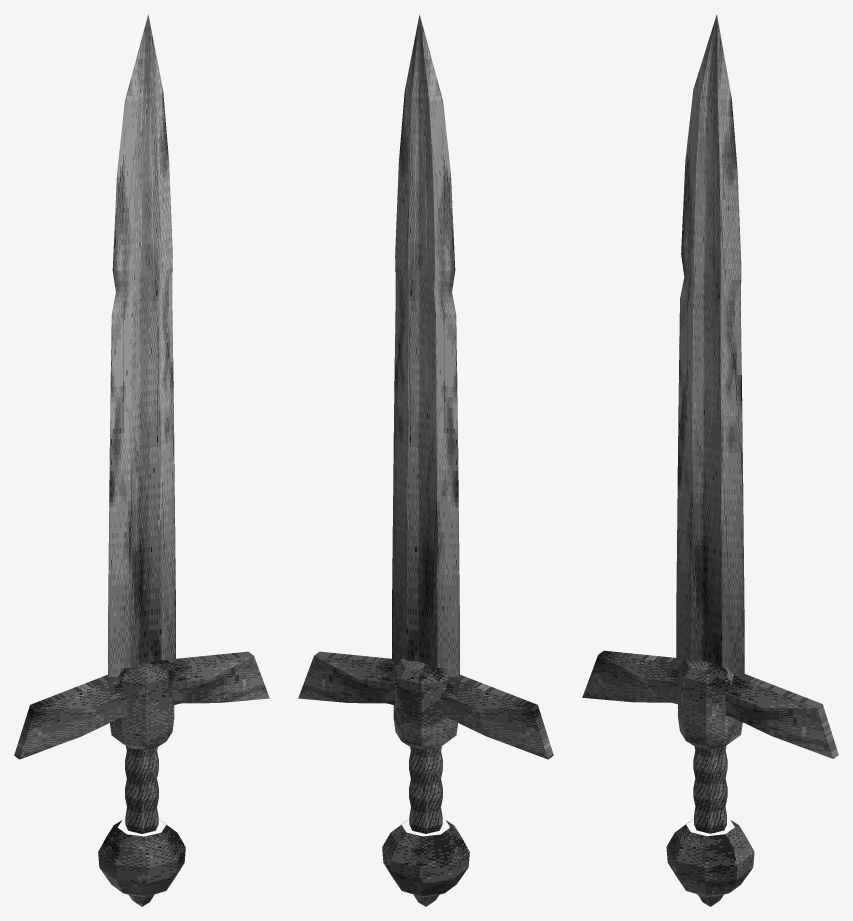
The model's file is espada_lowpoly_ps1.glb.
3 views of the same model, side by side, from view 1: azimuth 30°, elevation 25°; view 2: azimuth 150°, elevation 25°; view 3: azimuth 330°, elevation 25° (orthographic).
Parts seen in each view (by area): view 1: Espada_Lowpoly_PS1; view 2: Espada_Lowpoly_PS1; view 3: Espada_Lowpoly_PS1.
Part boxes in pixels (box(x1,y1,x2,y2)): Espada_Lowpoly_PS1: box(14, 14, 269, 906); Espada_Lowpoly_PS1: box(298, 14, 553, 906); Espada_Lowpoly_PS1: box(582, 14, 838, 906).
Bounding box in the file's own units: 0.47 × 1.6 × 0.133.
Materials: 1 (1 with a texture image).
